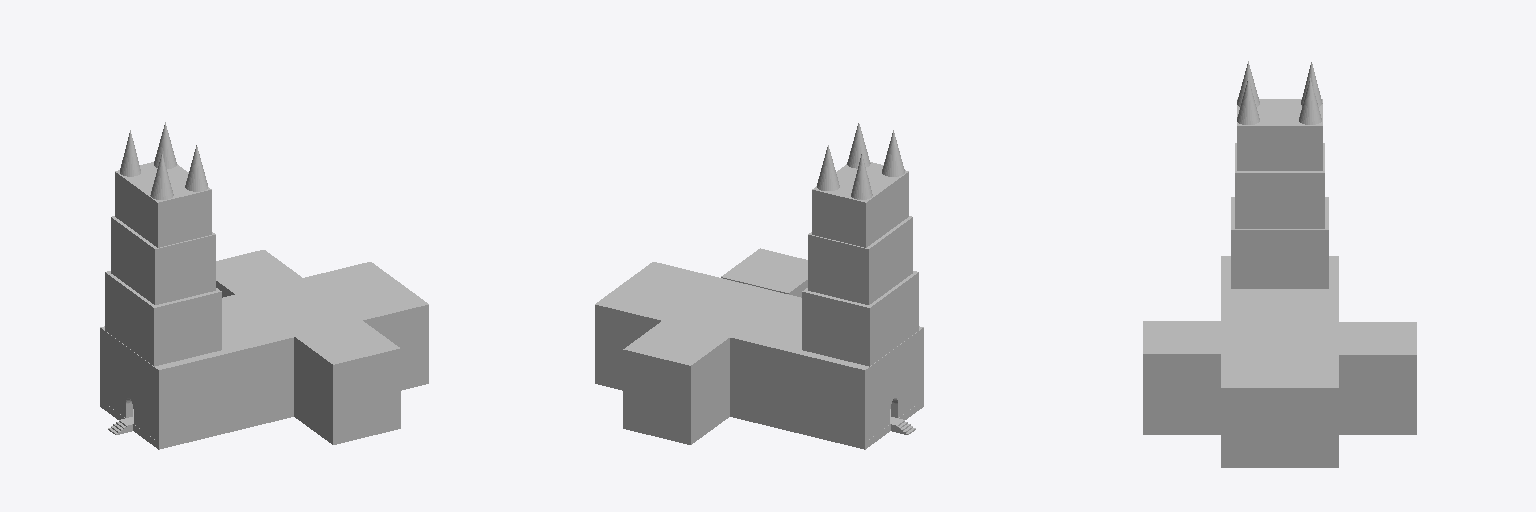
File: Church.obj
3 renders of one model, left to right at view 1: azimuth 30°, elevation 25°; view 2: azimuth 150°, elevation 25°; view 3: azimuth 270°, elevation 25°, orthographic.
Parts seen in each view (by area): view 1: Cube.038_Cube.051, Cube.008_Cube.012, Cube.040_Cube.053, Cube.041_Cube.054, Cube.042_Cube.055, Cube.034_Cube.047, Cube.039_Cube.052, Cube.035_Cube.048, Cube.011_Cube.015, Cube.037_Cube.050, Cube_Cube.004, Cube.019_Cube.025 (+5 smaller); view 2: Cube.038_Cube.051, Cube.009_Cube.013, Cube.040_Cube.053, Cube.041_Cube.054, Cube.042_Cube.055, Cube.033_Cube.046, Cube.032_Cube.045, Cube.037_Cube.050, Cube.010_Cube.014, Cube.039_Cube.052, Cube_Cube.004, Cube.020_Cube.057 (+6 smaller); view 3: Cube.038_Cube.051, Cube.013_Cube.017, Cube.040_Cube.053, Cube.041_Cube.054, Cube.042_Cube.055, Cube.036_Cube.049, Cube.031_Cube.044, Cube.039_Cube.052, Cube.037_Cube.050, Cube_Cube.004, Cone.003, Cone.002 (+4 smaller).
Part boxes in pixels (x1,y1,x2,y2): Cube.038_Cube.051: (100, 262, 428, 375); Cube.008_Cube.012: (155, 339, 293, 442); Cube.040_Cube.053: (105, 271, 221, 366); Cube.041_Cube.054: (111, 216, 215, 304); Cube.042_Cube.055: (115, 162, 211, 247); Cube.034_Cube.047: (330, 356, 400, 437); Cube.039_Cube.052: (294, 320, 400, 371); Cube.035_Cube.048: (294, 339, 330, 435); Cube.011_Cube.015: (365, 306, 428, 382); Cube.037_Cube.050: (216, 250, 301, 294); Cube_Cube.004: (100, 377, 428, 449); Cube.019_Cube.025: (104, 338, 132, 417); Cube.038_Cube.051: (595, 262, 923, 374); Cube.009_Cube.013: (730, 339, 868, 442); Cube.040_Cube.053: (802, 271, 918, 366); Cube.041_Cube.054: (808, 216, 912, 304); Cube.042_Cube.055: (812, 162, 908, 247); Cube.033_Cube.046: (623, 351, 694, 437); Cube.032_Cube.045: (684, 339, 729, 437); Cube.037_Cube.050: (623, 321, 729, 372); Cube.010_Cube.014: (595, 306, 658, 382); Cube.039_Cube.052: (721, 248, 807, 294); Cube_Cube.004: (595, 377, 923, 449); Cube.020_Cube.057: (891, 338, 919, 417); Cube.038_Cube.051: (1221, 256, 1338, 394); Cube.013_Cube.017: (1229, 395, 1330, 460); Cube.040_Cube.053: (1231, 197, 1328, 288); Cube.041_Cube.054: (1235, 143, 1324, 228); Cube.042_Cube.055: (1237, 99, 1322, 170); Cube.036_Cube.049: (1143, 357, 1220, 427); Cube.031_Cube.044: (1339, 357, 1416, 427); Cube.039_Cube.052: (1143, 321, 1220, 360); Cube.037_Cube.050: (1339, 322, 1416, 361); Cube_Cube.004: (1221, 461, 1338, 467); Cone.003: (1299, 78, 1321, 124); Cone.002: (1237, 78, 1259, 124).
Size of the model in its own units: 85.19 by 79.93 by 70.